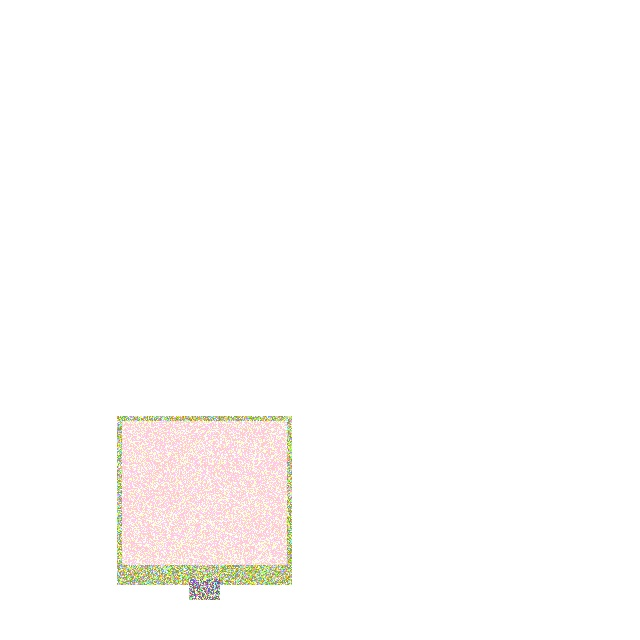Ordinateur: (117, 416, 291, 584)
